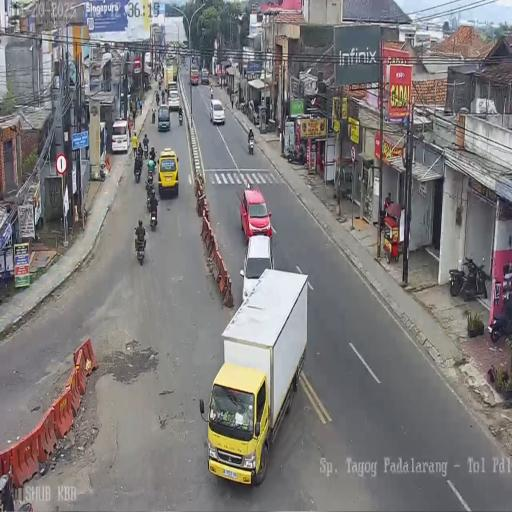3: (200, 269, 306, 487), (164, 64, 175, 88), (190, 66, 199, 86)
car: (240, 232, 274, 300), (239, 182, 272, 244), (157, 146, 179, 197), (111, 118, 130, 154), (210, 98, 225, 124), (158, 105, 170, 131), (168, 90, 180, 112), (201, 68, 209, 84)
truck: (450, 255, 486, 300), (489, 287, 512, 343), (285, 144, 305, 165), (136, 232, 146, 264), (149, 200, 158, 230), (134, 156, 142, 182), (146, 188, 152, 212), (248, 134, 254, 154), (241, 99, 248, 115), (276, 123, 281, 138), (178, 110, 183, 124), (152, 108, 156, 124), (156, 92, 160, 106), (144, 144, 148, 158), (158, 78, 162, 90), (161, 90, 164, 104)
